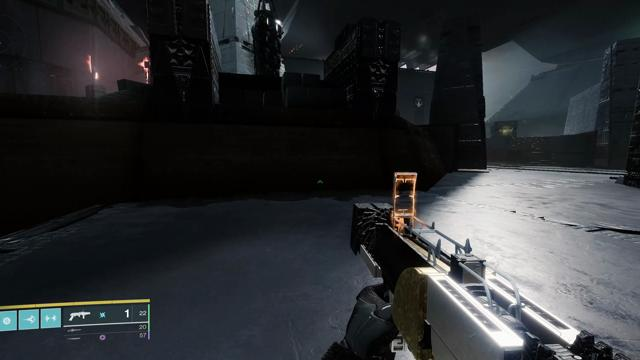drink: (414, 97, 424, 108)
